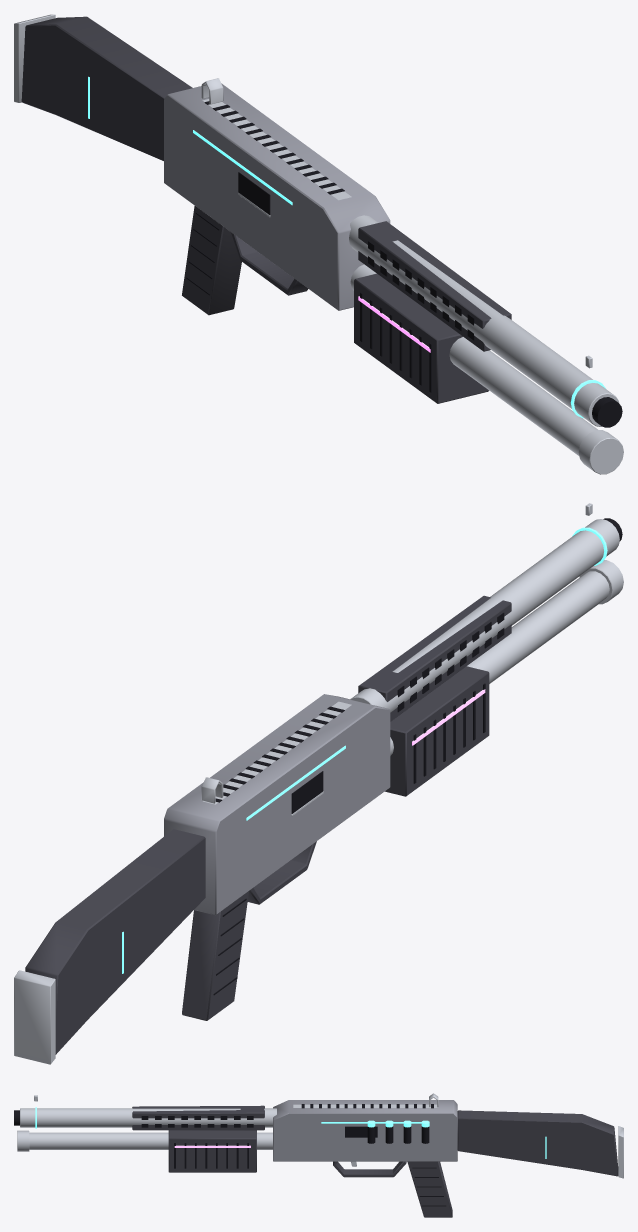
Rendered from w_shotgun.glb.
3 views of the same model, one above another, from view 1: azimuth 30°, elevation 25°; view 2: azimuth 150°, elevation 25°; view 3: azimuth 270°, elevation 25° (orthographic). The views are drawn at different scales.
Visible parts, largest first — view 1: grip, body, metal, grip.pump, dark, dark.pump, acc; view 2: grip, body, metal, grip.pump, dark, dark.pump; view 3: grip, body, metal, grip.pump, dark, acc, dark.pump, heat.pump.
Boxes of the visible parts, bbox=[...] form: grip: bbox=[21, 16, 511, 351]; body: bbox=[164, 83, 390, 310]; metal: bbox=[14, 14, 623, 474]; grip.pump: bbox=[354, 273, 488, 403]; dark: bbox=[186, 101, 622, 427]; dark.pump: bbox=[360, 292, 431, 392]; acc: bbox=[88, 76, 605, 418]; grip: bbox=[25, 595, 511, 1054]; body: bbox=[164, 694, 390, 915]; metal: bbox=[14, 503, 623, 1064]; grip.pump: bbox=[385, 666, 489, 796]; dark: bbox=[213, 518, 622, 995]; dark.pump: bbox=[413, 683, 485, 783]; grip: bbox=[132, 1105, 618, 1217]; body: bbox=[273, 1100, 457, 1161]; metal: bbox=[17, 1093, 623, 1178]; grip.pump: bbox=[168, 1130, 256, 1172]; dark: bbox=[14, 1104, 445, 1206]; acc: bbox=[35, 1107, 546, 1158]; dark.pump: bbox=[174, 1143, 248, 1168]; heat.pump: bbox=[174, 1145, 250, 1147].
Size of the model in its own units: 0.0997 by 0.3283 by 1.52.
